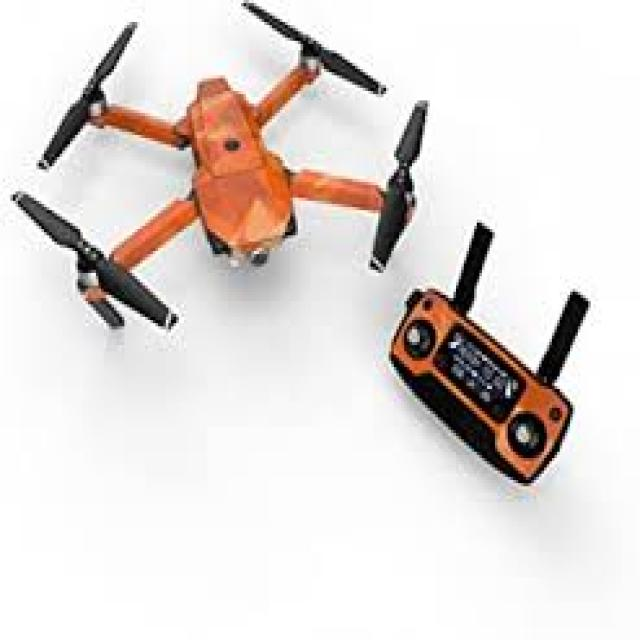drone: (0, 0, 436, 380)
